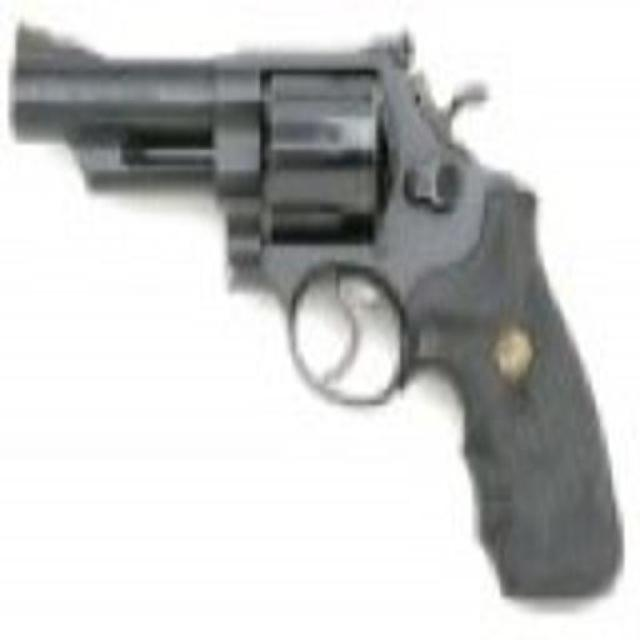pistol: (8, 5, 624, 607)
